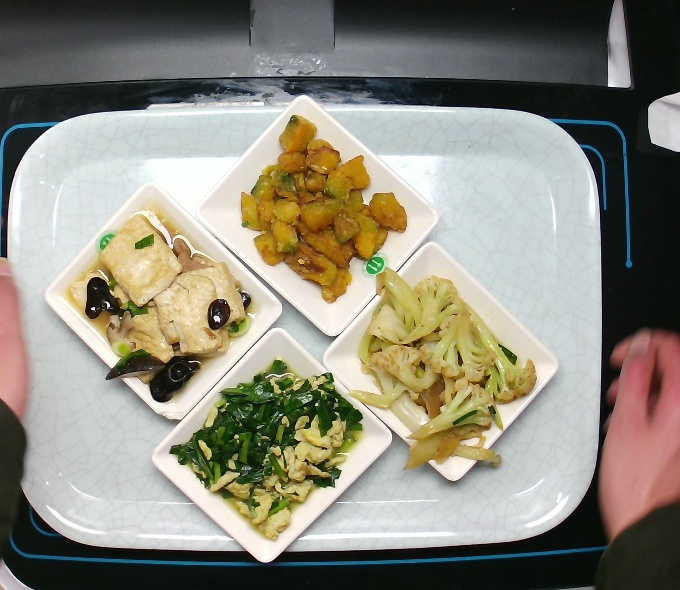wcq-DanHuangNanGua: (238, 114, 430, 306)
wcq-JiaChangDouFu: (56, 210, 256, 397)
wcq-JiuCaiJiDan: (174, 349, 369, 550)
wcq-QiuCai: (357, 268, 543, 485)
